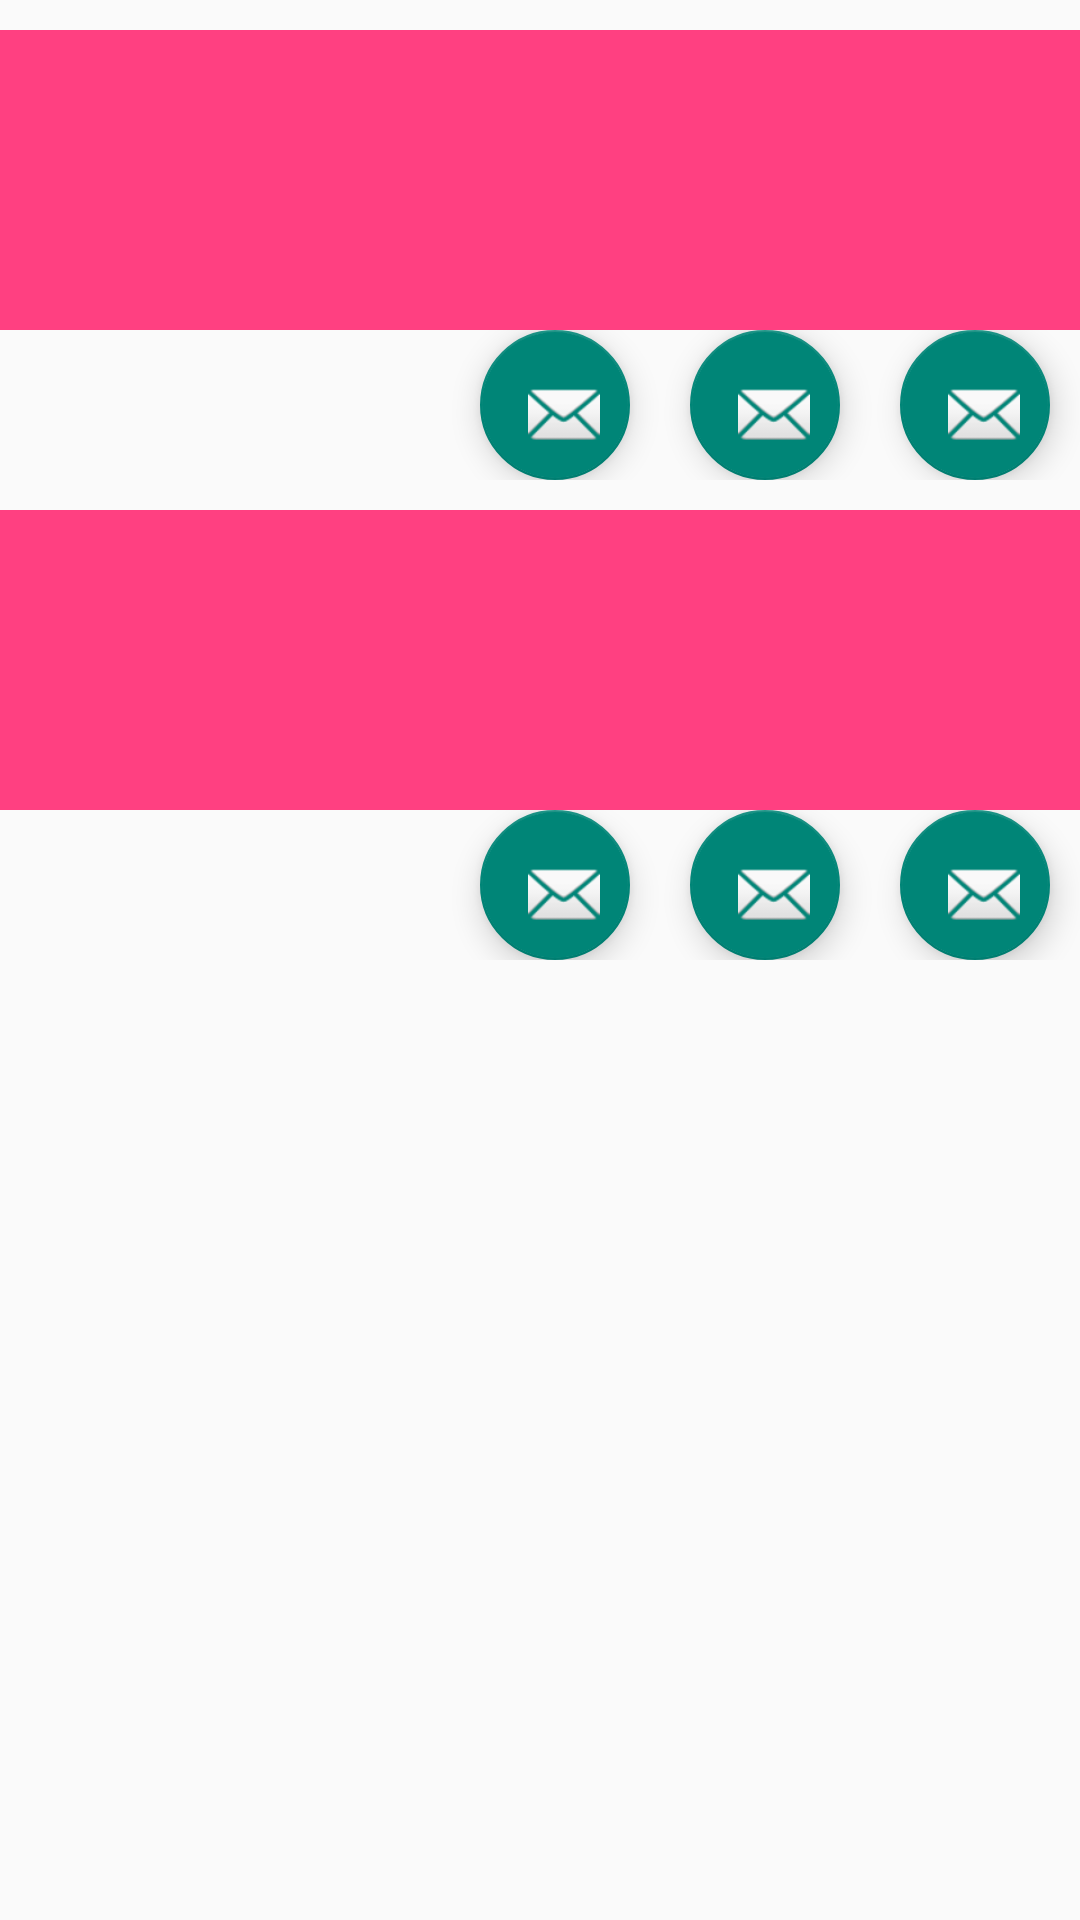

Icon bounding boxes for this 1080x1920 phone screenshot, format (x1, y1, x2, y2):
email: (480, 330, 630, 480), (690, 330, 840, 480), (900, 330, 1050, 480), (480, 810, 630, 960), (690, 810, 840, 960), (900, 810, 1050, 960)
